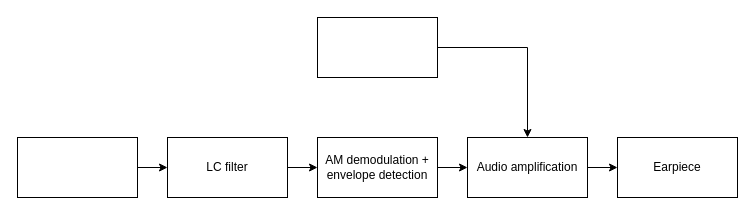
Image size: 755x215. Some labels were removed from this diagram. The shapes that lost their labels are listed below. From the top down, each one's box as (x1, y1, x2, y2) in pixels, then its label:
(316, 16, 438, 78): Power supply
(16, 136, 138, 198): Antenna
